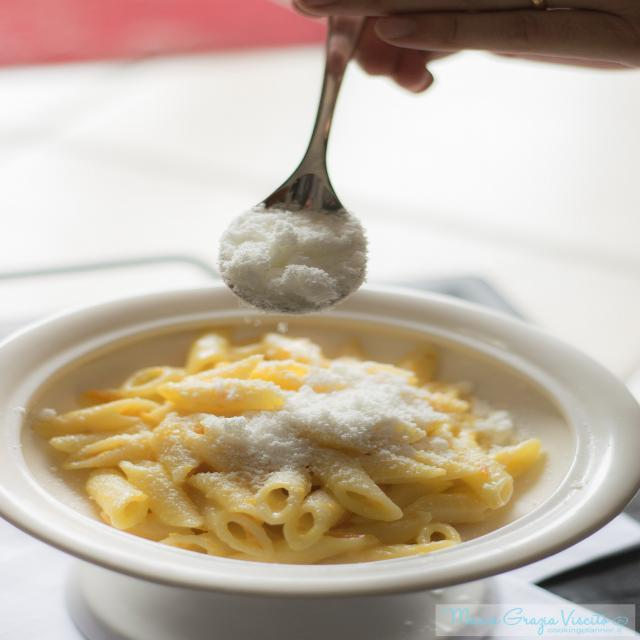Oil pasta: (48, 277, 640, 599)
